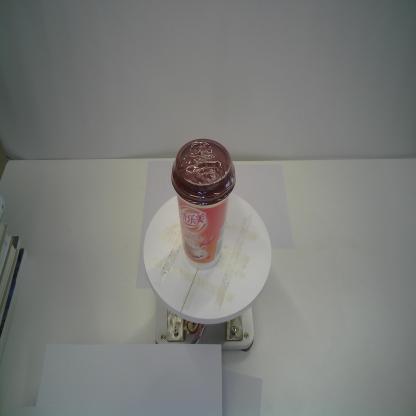Instant Drink: (170, 138, 236, 271)
